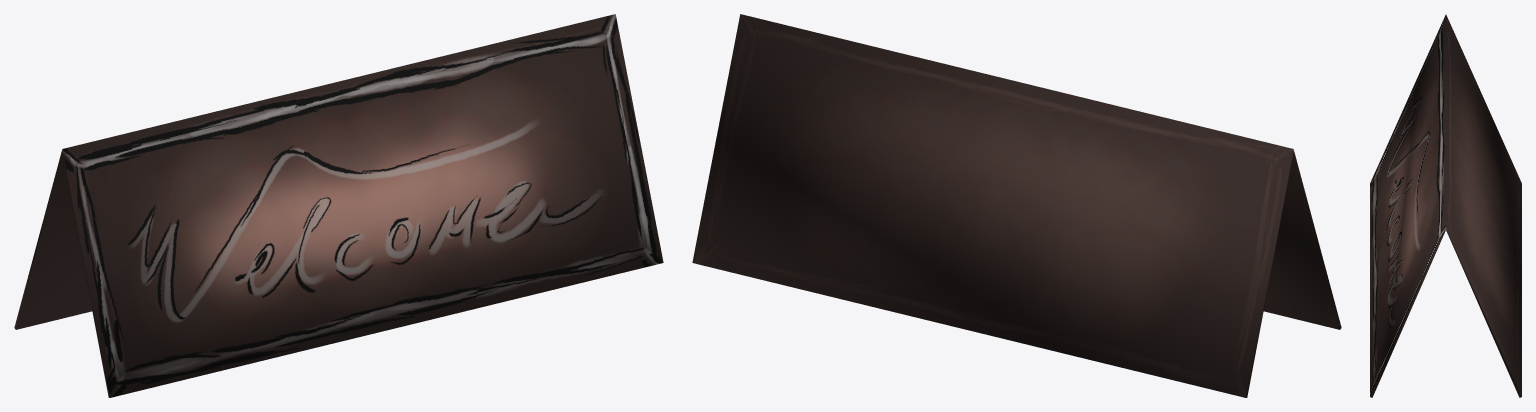
Rendered from welcome.fbx.
The picture shows the model from 3 angles, left to right: view 1: azimuth 30°, elevation 25°; view 2: azimuth 150°, elevation 25°; view 3: azimuth 270°, elevation 25°; orthographic projection. The views are drawn at different scales.
Visible parts, largest first — view 1: Plane; view 2: Plane; view 3: Plane.
Boxes of the visible parts, x1=… form: Plane: x1=14, y1=14, x2=663, y2=397; Plane: x1=692, y1=14, x2=1341, y2=397; Plane: x1=1370, y1=14, x2=1521, y2=397.
Size of the model in its own units: 2 by 0.7424 by 0.6.
